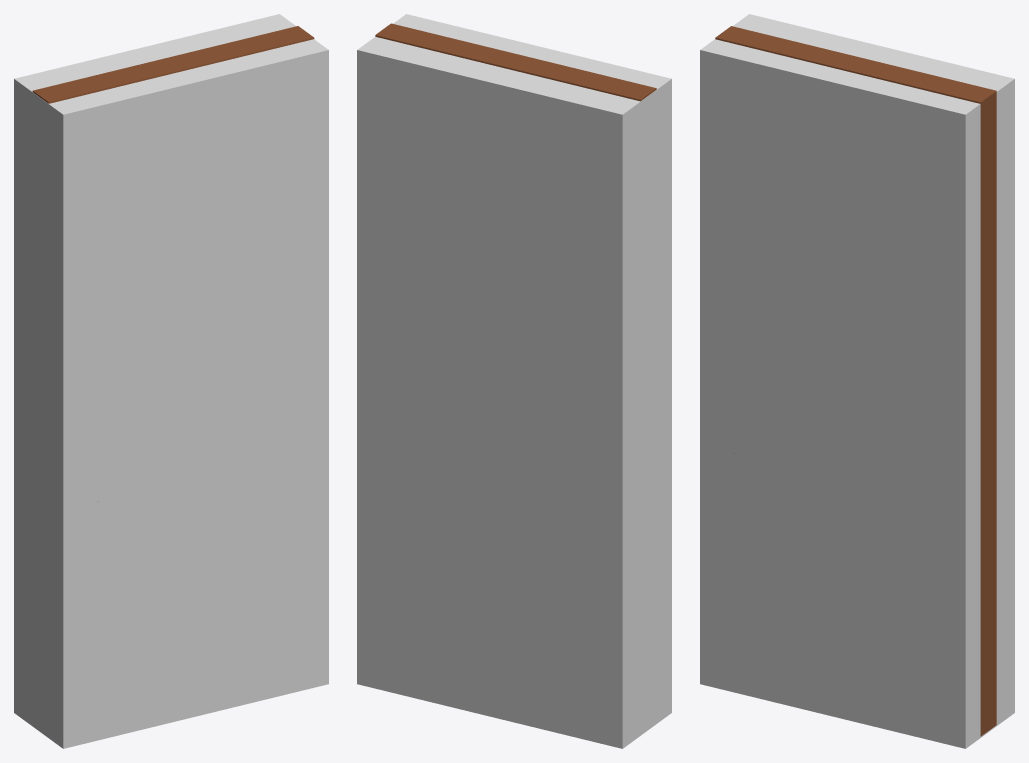
Rendered from door-b.glb.
3 views of the same model, side by side, from view 1: azimuth 30°, elevation 25°; view 2: azimuth 150°, elevation 25°; view 3: azimuth 330°, elevation 25° (orthographic).
Visible parts, largest first — view 1: Door B_col, Door B; view 2: Door B_col, Door B; view 3: Door B_col, Door B.
Part boxes in pixels (x1,y1,x2,y2): Door B_col: (14,14,328,748); Door B: (32,26,314,501); Door B_col: (357,14,671,748); Door B: (375,23,656,101); Door B_col: (700,14,1014,748); Door B: (715,26,996,736).
Size of the model in its own units: 4.48 by 10.25 by 1.44.
